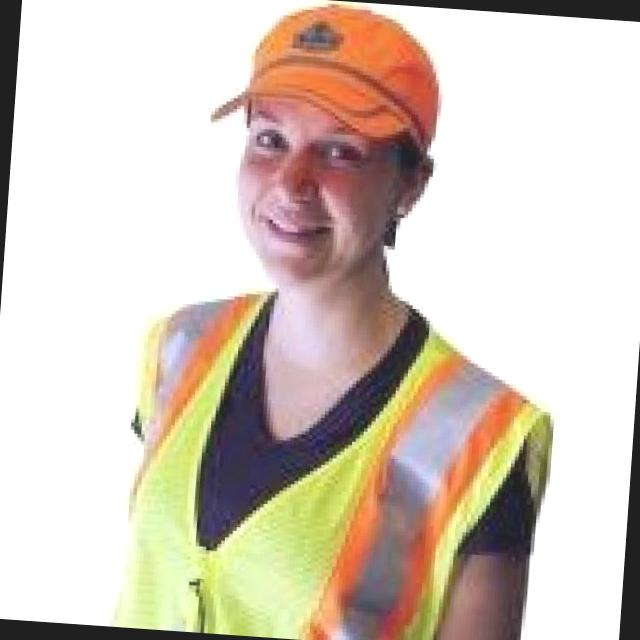vest: (94, 227, 489, 640)
